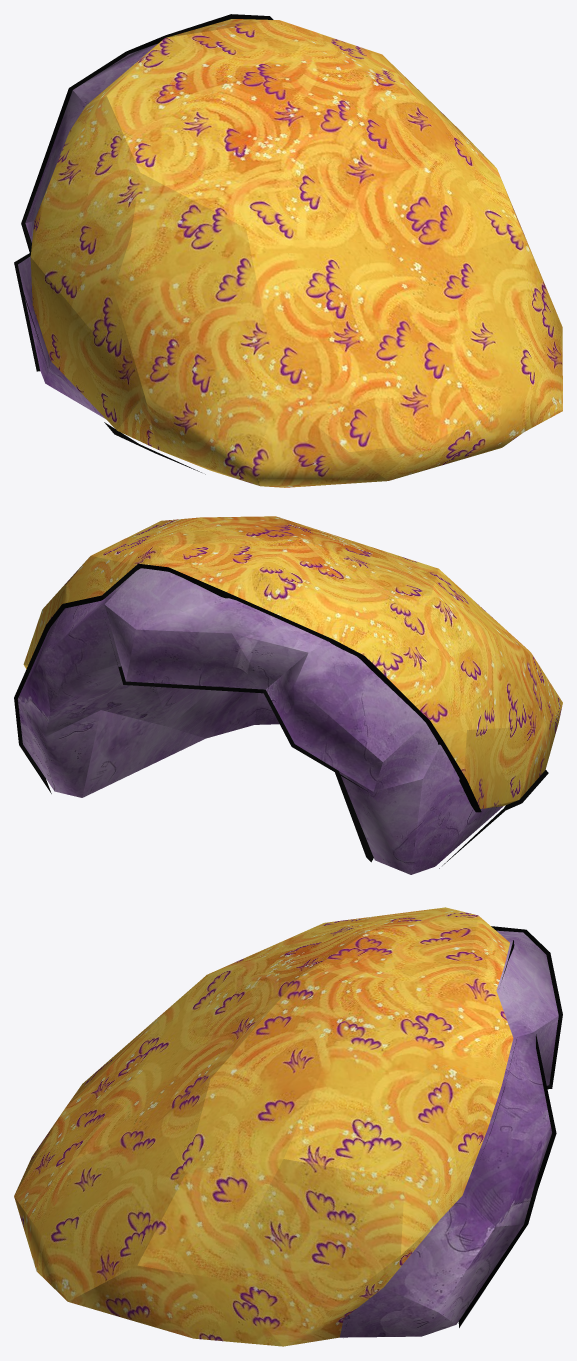
The model's file is entity305968.gltf.
3 renders of one model, top to bottom at view 1: azimuth 30°, elevation 25°; view 2: azimuth 150°, elevation 25°; view 3: azimuth 270°, elevation 25°, orthographic. The views are drawn at different scales.
Parts seen in each view (by area): view 1: node_Shelter_01; view 2: node_Shelter_01; view 3: node_Shelter_01.
Part boxes in pixels (x1=…): node_Shelter_01: x1=14, y1=14, x2=562, y2=487; node_Shelter_01: x1=14, y1=516, x2=562, y2=874; node_Shelter_01: x1=14, y1=907, x2=562, y2=1346.
Size of what is drawn, in the model's own units: 2.63 by 1.62 by 2.66.
